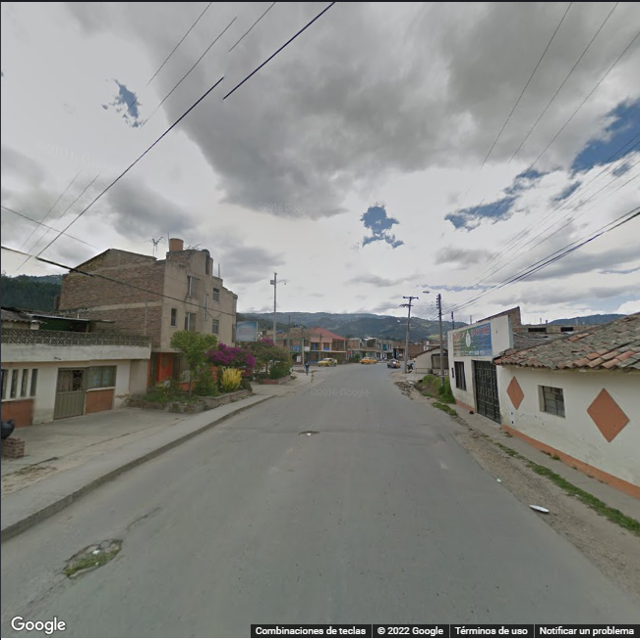D00: (127, 507, 162, 528)
D40: (55, 534, 128, 581)
